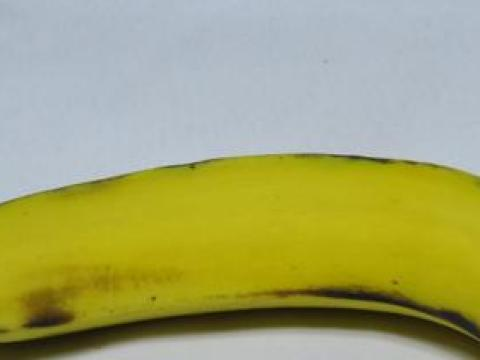freshripe: (0, 137, 479, 359)
